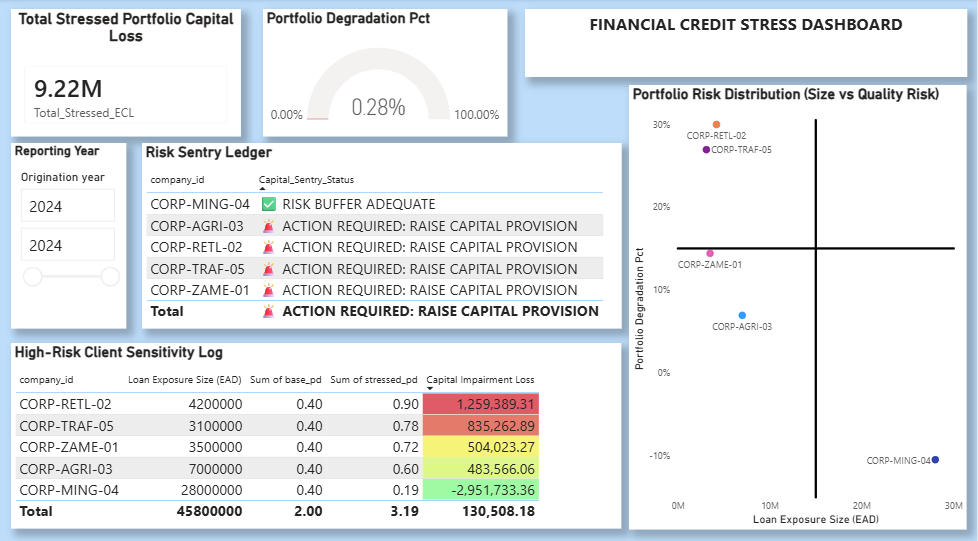

What the dashboard file says about the page in this screenshot:
{"tool":"powerbi","page":{"name":"Page 1","canvas":[1280,720],"ordinal":0},"visuals":[{"type":"cardVisual","title":"Total Stressed Portfolio Capital Loss","fields":{"Data":["stressed_credit_portfolio.Total_Stressed_ECL"]},"box":[15.8,13,301,167],"z":0},{"type":"gauge","title":"Portfolio Degradation Pct","fields":{"Y":["stressed_credit_portfolio.Portfolio_Degradation_Pct"]},"box":[345.6,13,319.7,167],"z":1000},{"type":"tableEx","title":"High-Risk Client Sensitivity Log","fields":{"Values":["stressed_credit_portfolio.company_id","Sum(stressed_credit_portfolio.exposure_at_default_zmw)","Sum(stressed_credit_portfolio.base_pd)","Sum(stressed_credit_portfolio.stressed_pd)","Sum(stressed_credit_portfolio.capital_impairment_delta)"]},"box":[15.8,450.7,799.2,243.4],"z":2000},{"type":"tableEx","title":"Risk Sentry Ledger","fields":{"Values":["stressed_credit_portfolio.company_id","stressed_credit_portfolio.Capital_Sentry_Status"]},"box":[187.2,188.6,627.8,243.4],"z":3000},{"type":"textbox","box":[688.3,13,578.9,89.3],"z":4000},{"type":"scatterChart","title":"Portfolio Risk Distribution (Size vs Quality Risk)","fields":{"X":["Sum(stressed_credit_portfolio.exposure_at_default_zmw)"],"Y":["stressed_credit_portfolio.Portfolio_Degradation_Pct"],"Series":["stressed_credit_portfolio.company_id"]},"box":[825.1,112.3,442.1,581.8],"z":5000},{"type":"slicer","title":"Reporting Year","fields":{"Values":["stressed_credit_portfolio.origination_year"]},"box":[15.8,188.6,151.2,243.4],"z":6000}]}

Visuals, with their boxes in screenshot pixels (x1, y1, x2, y2), scaled from the page's 1280x720 canvas onto the 978x541 screenshot:
"Total Stressed Portfolio Capital Loss" cardVisual: box(12, 10, 242, 135)
"Portfolio Degradation Pct" gauge: box(264, 10, 508, 135)
"High-Risk Client Sensitivity Log" tableEx: box(12, 339, 623, 522)
"Risk Sentry Ledger" tableEx: box(143, 142, 623, 325)
textbox: box(526, 10, 968, 77)
"Portfolio Risk Distribution (Size vs Quality Risk)" scatterChart: box(630, 84, 968, 522)
"Reporting Year" slicer: box(12, 142, 128, 325)
